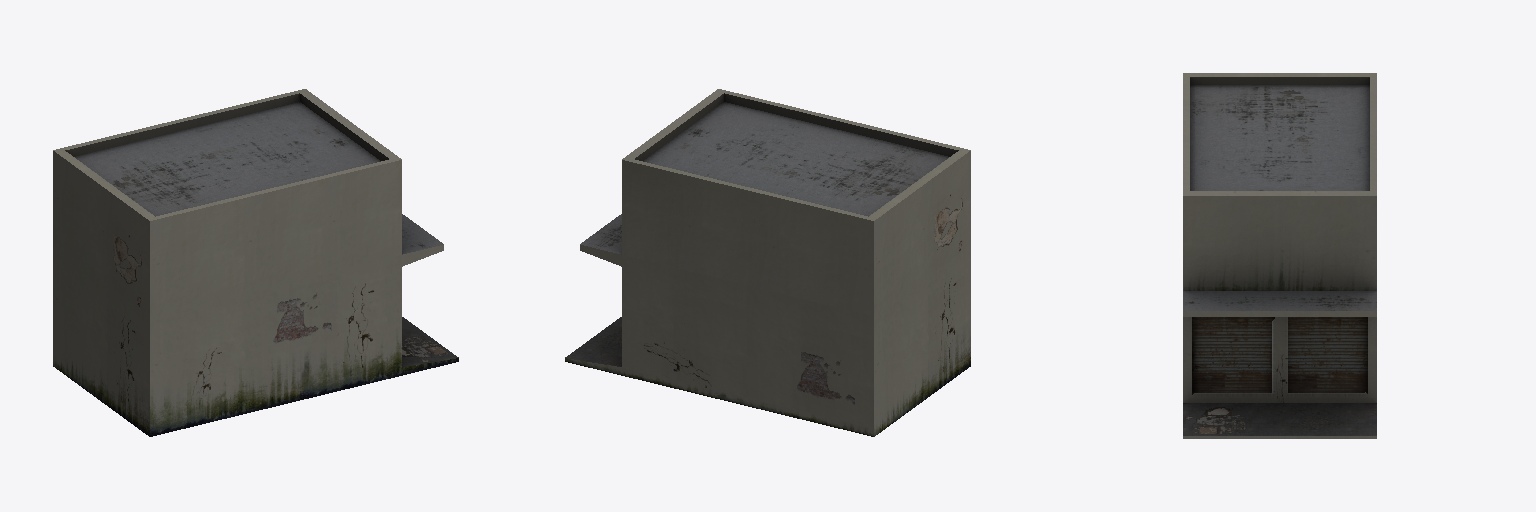
The picture shows the model from 3 angles: view 1: azimuth 30°, elevation 25°; view 2: azimuth 150°, elevation 25°; view 3: azimuth 270°, elevation 25°; orthographic projection.
Visible parts, largest first — view 1: building; view 2: building; view 3: building.
Part boxes in pixels (x1,y1,x2,y2): building: (53, 89, 458, 436); building: (565, 89, 970, 436); building: (1183, 73, 1376, 438).
Size of the model in its own units: 10.97 by 7.32 by 5.96.
Materials: 1 (1 with a texture image).